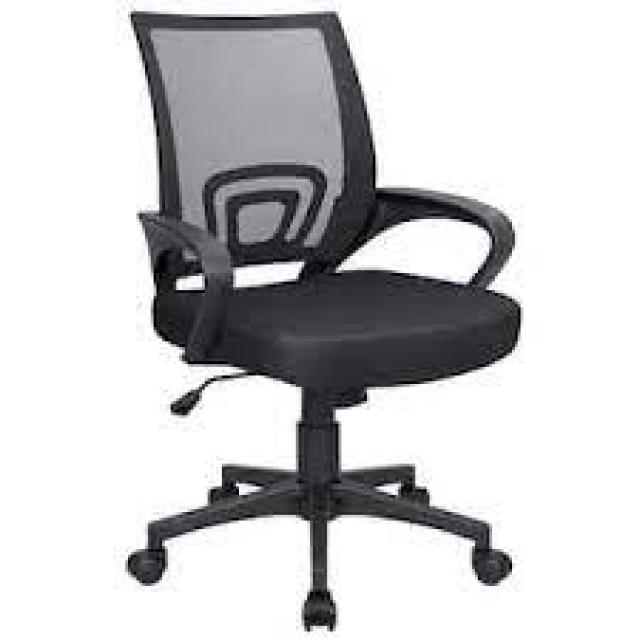chair: (42, 0, 568, 640)
